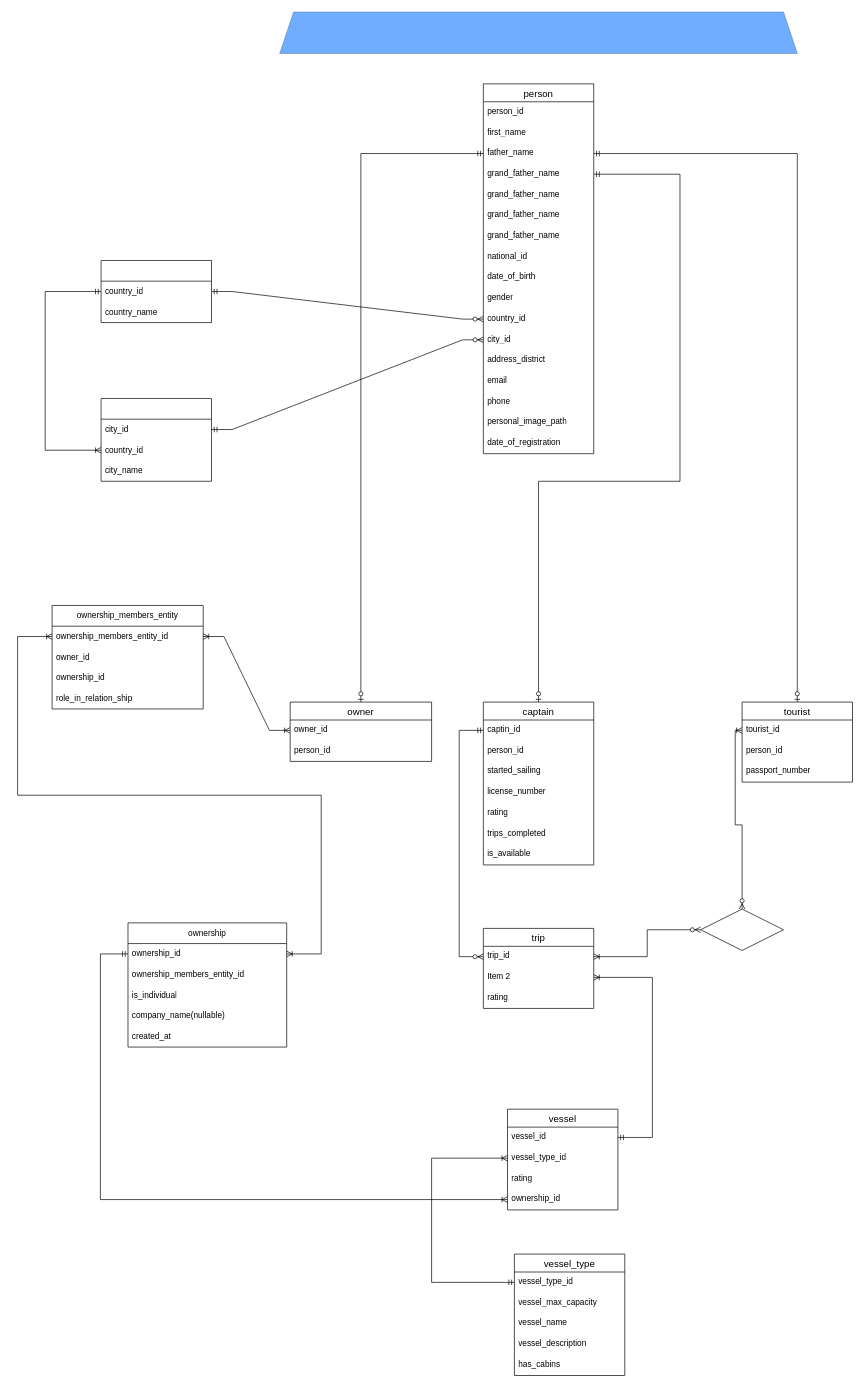
This 865x1390 diagram has some shape labels left out. Here are the shapes that lost their labels. From the top down, the box of each, then its label:
(279, 11, 797, 53): Sea Trips A Social Media Platform But For Boats
(100, 260, 211, 323): countries
(100, 398, 211, 481): cities
(700, 908, 783, 950): book
